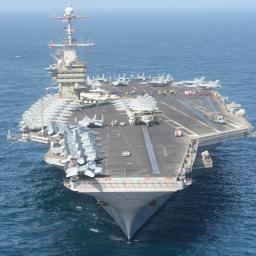Portanaves: (14, 3, 256, 244)
